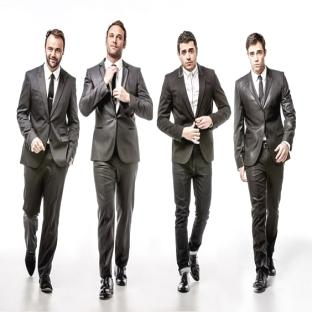Human: (80, 20, 153, 296), (158, 31, 231, 292), (17, 29, 80, 292), (234, 33, 296, 291)
